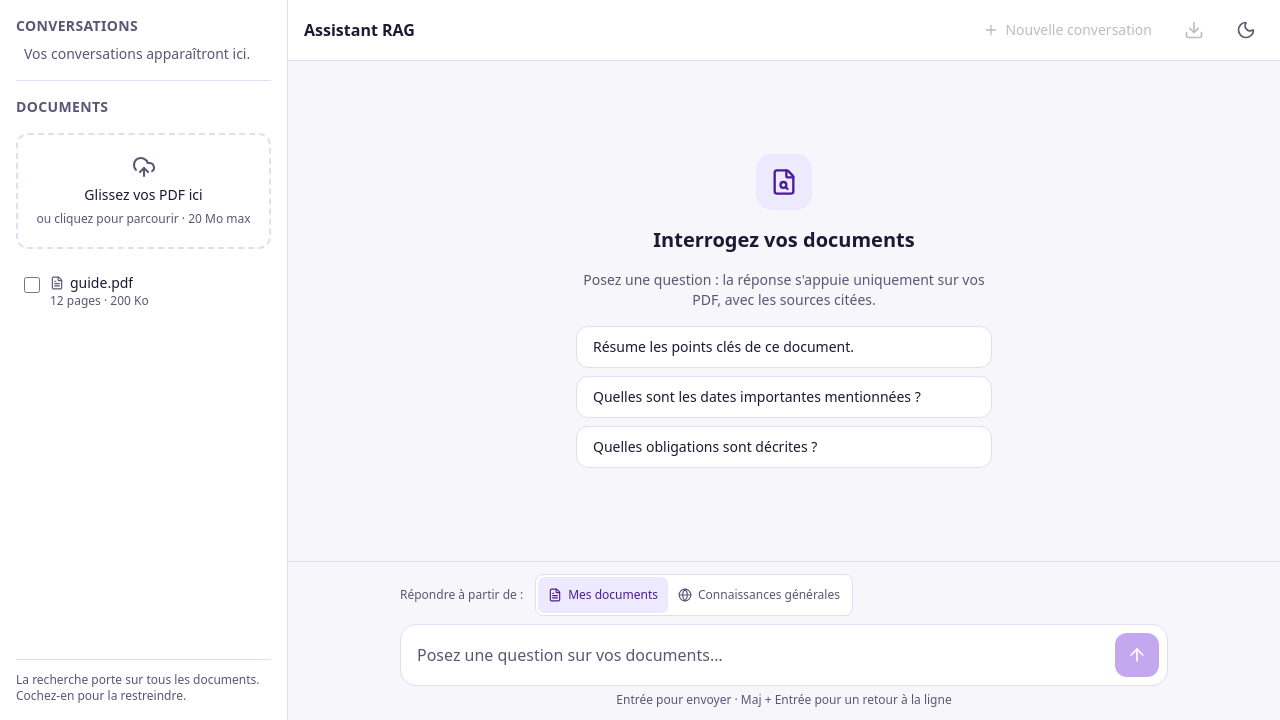
Test: App › starts a new conversation
This screenshot has width=1280, height=720.
Later steps or results of the test are not shown.
Expected: the text "guide.pdf" is shown, [70,273,133,293]
Type "Q1" into the text box named "Votre question". click: (758, 655)
box: [409,633,1107,677]
Then press Enter
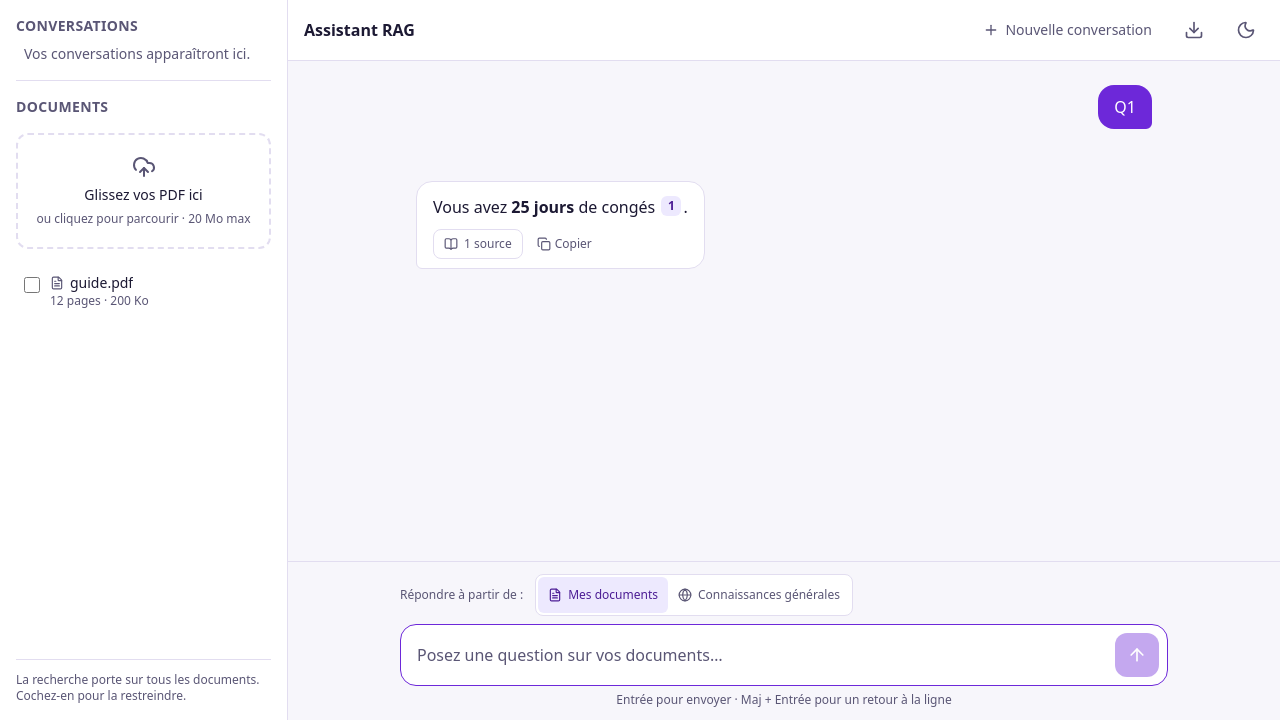
Result: the button named "Voir la source 1" is shown at [661,196,681,216]
Click the button "Nouvelle conversation". click: (1068, 30)
box: [972,8,1164,52]
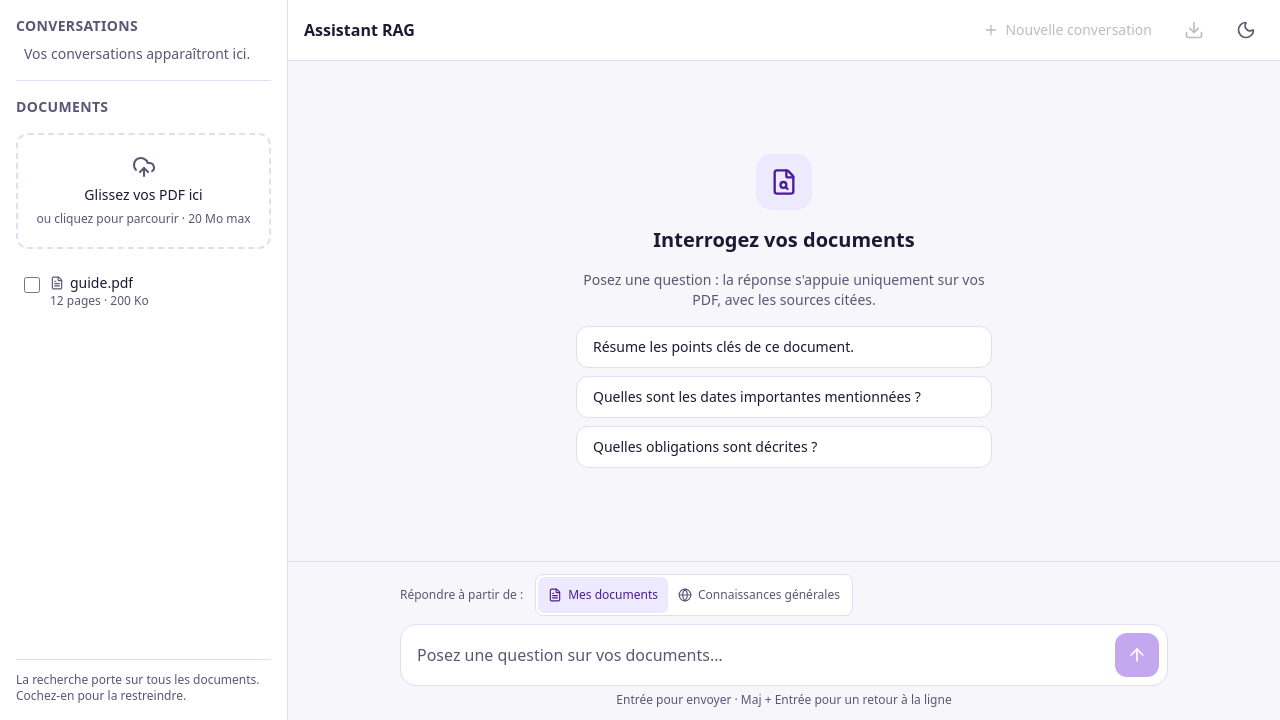
Result: the text "Q1" is gone
